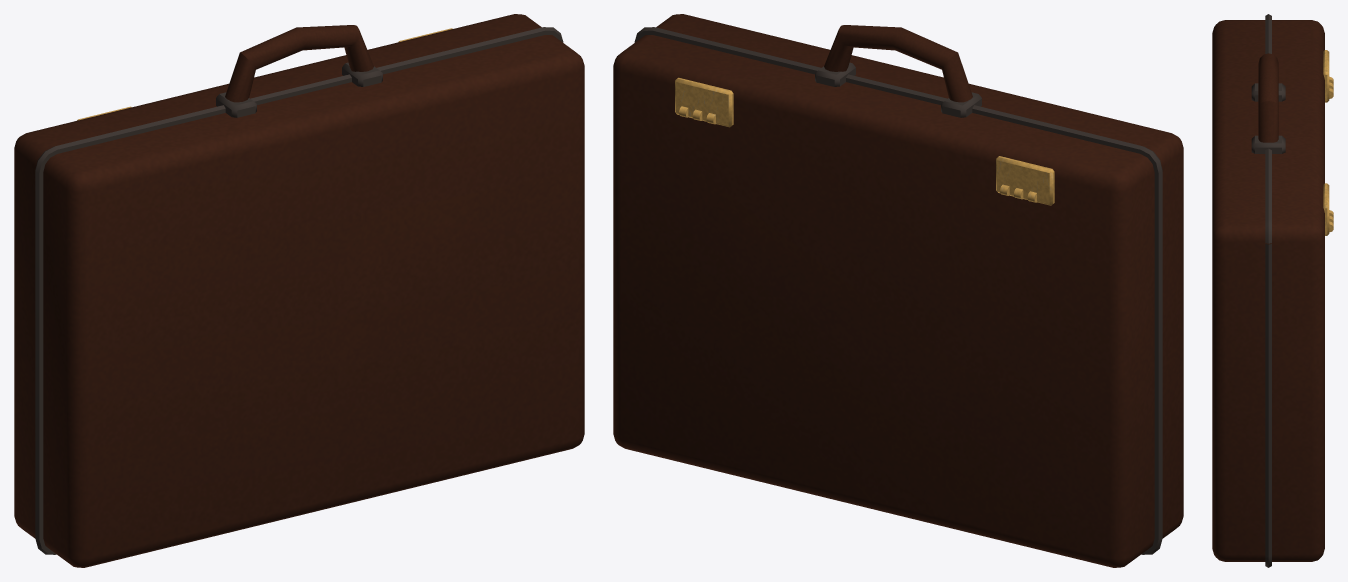
Rendered from briefcase.glb.
3 views of the same model, side by side, from view 1: azimuth 30°, elevation 25°; view 2: azimuth 150°, elevation 25°; view 3: azimuth 270°, elevation 25° (orthographic). The views are drawn at different scales.
Parts seen in each view (by area): view 1: Briefcase_Clean_case, Briefcase_Clean_trim, Briefcase_Clean_handle; view 2: Briefcase_Clean_case, Briefcase_Clean_trim, Briefcase_Clean_latches, Briefcase_Clean_handle; view 3: Briefcase_Clean_case, Briefcase_Clean_trim, Briefcase_Clean_handle, Briefcase_Clean_latches.
Part boxes in pixels (bbox=[...]): Briefcase_Clean_case: bbox=[14, 14, 584, 567]; Briefcase_Clean_trim: bbox=[35, 27, 563, 554]; Briefcase_Clean_handle: bbox=[225, 25, 373, 102]; Briefcase_Clean_case: bbox=[613, 14, 1183, 567]; Briefcase_Clean_trim: bbox=[634, 27, 1162, 554]; Briefcase_Clean_latches: bbox=[675, 77, 1054, 205]; Briefcase_Clean_handle: bbox=[824, 25, 972, 102]; Briefcase_Clean_case: bbox=[1212, 20, 1324, 561]; Briefcase_Clean_trim: bbox=[1251, 14, 1285, 567]; Briefcase_Clean_handle: bbox=[1258, 53, 1278, 142]; Briefcase_Clean_latches: bbox=[1323, 50, 1333, 235].
Bounding box in the file's own units: 0.4606 × 0.3893 × 0.1078.
3 materials, 2 textured.
